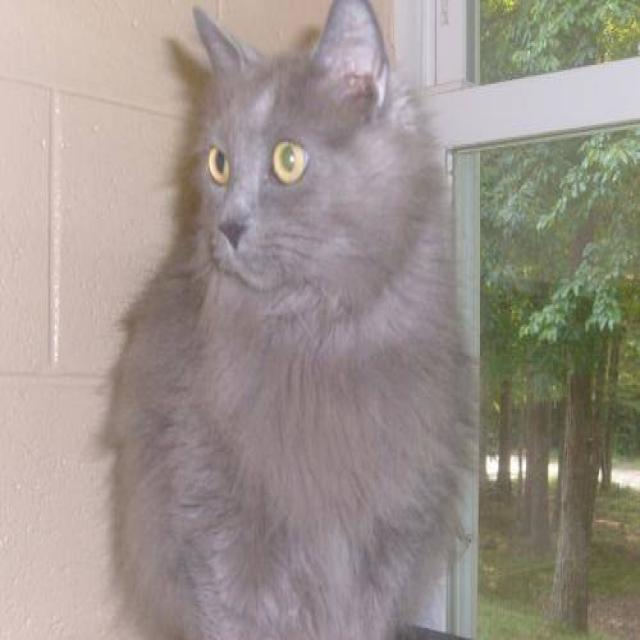cat: (94, 0, 480, 638)
